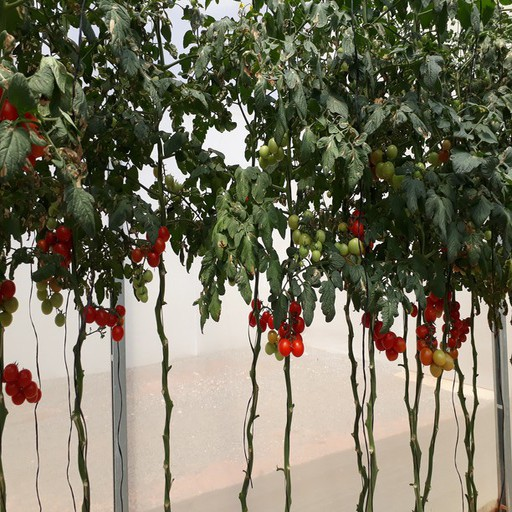green tomato bunch: (288, 213, 324, 263), (35, 276, 66, 326), (371, 143, 399, 179), (130, 264, 151, 304), (257, 138, 284, 169)
mixed tomato bunch: (333, 210, 374, 261)
red tomato bunch: (1, 90, 47, 173), (360, 311, 407, 362), (416, 293, 444, 363), (76, 305, 128, 341), (129, 221, 171, 265), (37, 226, 73, 277), (1, 362, 41, 407), (443, 291, 470, 353), (278, 301, 304, 358), (250, 297, 274, 331)
